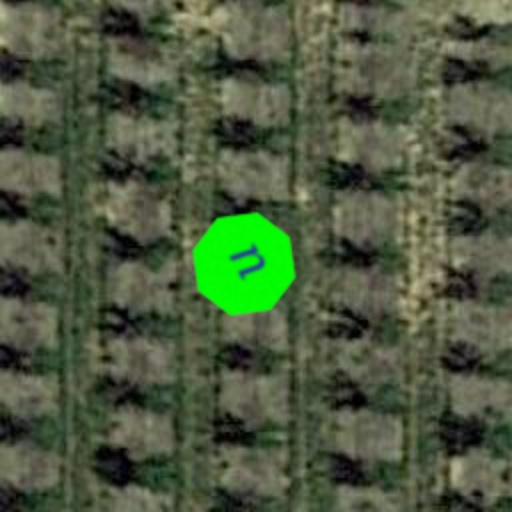octagon: (170, 190, 318, 338)
